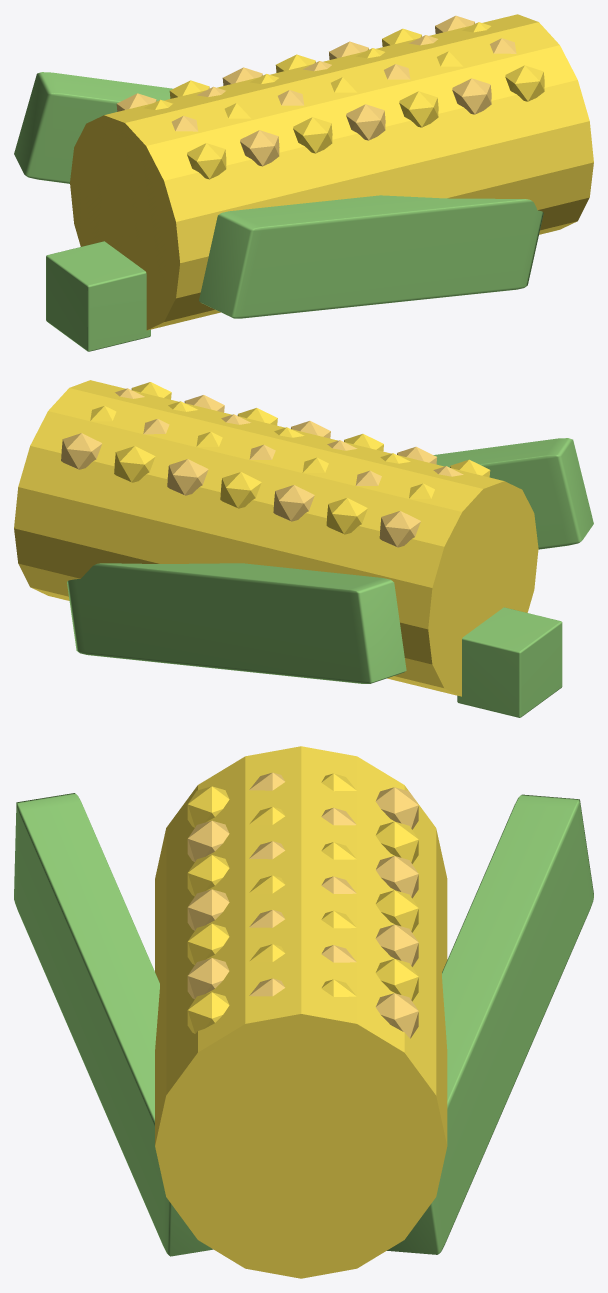
The model's file is corn.glb.
3 renders of one model, top to bottom at view 1: azimuth 30°, elevation 25°; view 2: azimuth 150°, elevation 25°; view 3: azimuth 270°, elevation 25°, orthographic. The views are drawn at different scales.
Parts seen in each view (by area): view 1: yellow corn cob core, left green husk, bottom husk nub, right green husk, square corn kernel.016, square corn kernel.012, square corn kernel.008, square corn kernel.020, square corn kernel.004, square corn kernel, square corn kernel.024; view 2: yellow corn cob core, right green husk, bottom husk nub, left green husk, square corn kernel.023, square corn kernel.019, square corn kernel.015, square corn kernel.027, square corn kernel.003, square corn kernel.011, square corn kernel.007; view 3: yellow corn cob core, right green husk, left green husk, square corn kernel.027, square corn kernel.023, square corn kernel.003, square corn kernel.015, square corn kernel.011, square corn kernel.019, square corn kernel.007, square corn kernel.008, square corn kernel.024 (+5 smaller).
Part boxes in pixels (x1,y1,x2,y2): yellow corn cob core: [70, 14, 593, 330]; left green husk: [199, 195, 543, 318]; bottom husk nub: [46, 241, 150, 351]; right green husk: [14, 72, 172, 183]; square corn kernel.016: [399, 91, 438, 127]; square corn kernel.012: [346, 104, 385, 140]; square corn kernel.008: [293, 117, 332, 153]; square corn kernel.020: [452, 78, 491, 114]; square corn kernel.004: [240, 130, 279, 166]; square corn kernel: [187, 143, 226, 179]; square corn kernel.024: [505, 65, 544, 101]; yellow corn cob core: [14, 380, 538, 696]; right green husk: [67, 563, 406, 683]; bottom husk nub: [457, 607, 562, 717]; left green husk: [433, 438, 593, 549]; square corn kernel.023: [114, 446, 155, 482]; square corn kernel.019: [167, 459, 208, 495]; square corn kernel.015: [220, 472, 261, 508]; square corn kernel.027: [61, 433, 102, 469]; square corn kernel.003: [379, 511, 420, 547]; square corn kernel.011: [273, 485, 314, 521]; square corn kernel.007: [326, 498, 367, 534]; yellow corn cob core: [155, 746, 447, 1278]; right green husk: [387, 794, 593, 1254]; left green husk: [14, 793, 213, 1256]; square corn kernel.027: [375, 993, 418, 1038]; square corn kernel.023: [375, 959, 418, 1001]; square corn kernel.003: [375, 787, 418, 829]; square corn kernel.015: [375, 890, 418, 932]; square corn kernel.011: [376, 856, 418, 898]; square corn kernel.019: [375, 924, 418, 966]; square corn kernel.007: [375, 821, 418, 863]; square corn kernel.008: [187, 855, 229, 896]; square corn kernel.024: [187, 992, 229, 1033].
Size of the model in its own units: 0.89 by 0.3911 by 0.7144.
